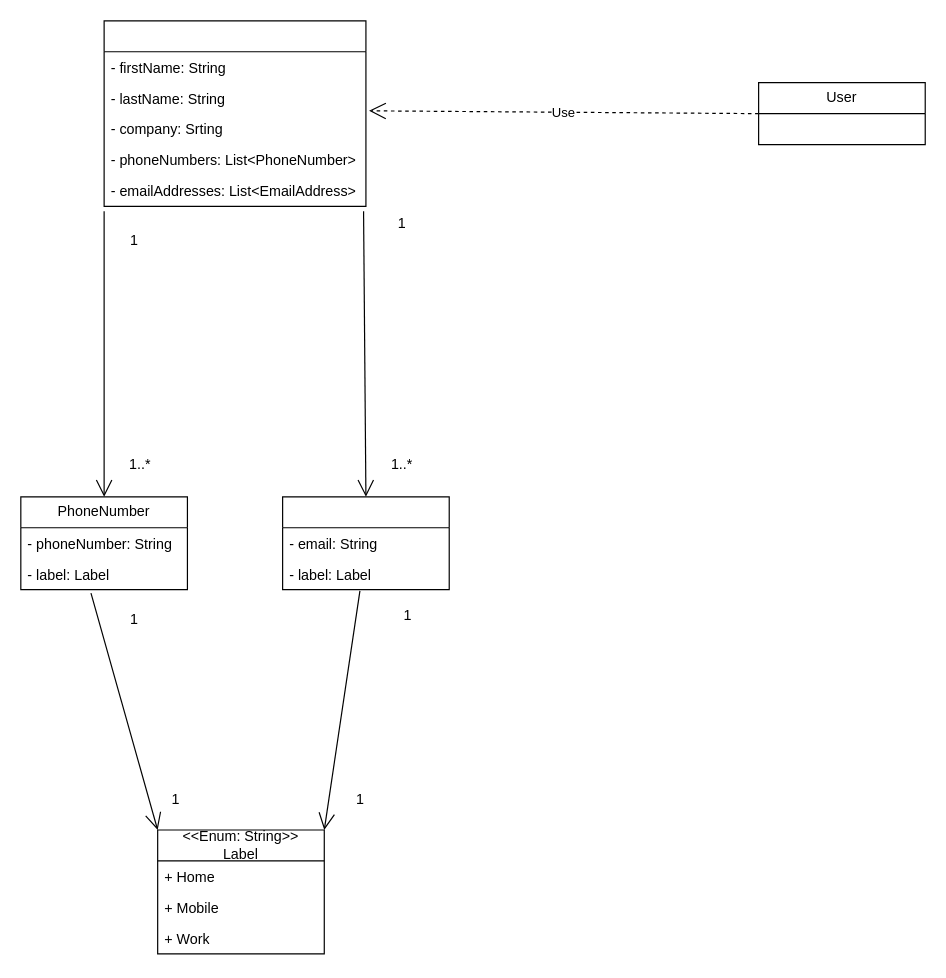
Some shapes in this 946 by 978 pixel diagram are drawn without their labels. The shapes that lost their labels are listed below. From the top down, each one's box as (x1, y1, x2, y2) in pixels, then its label:
(103, 20, 366, 206): Contact
(281, 496, 449, 590): EmailAddress
